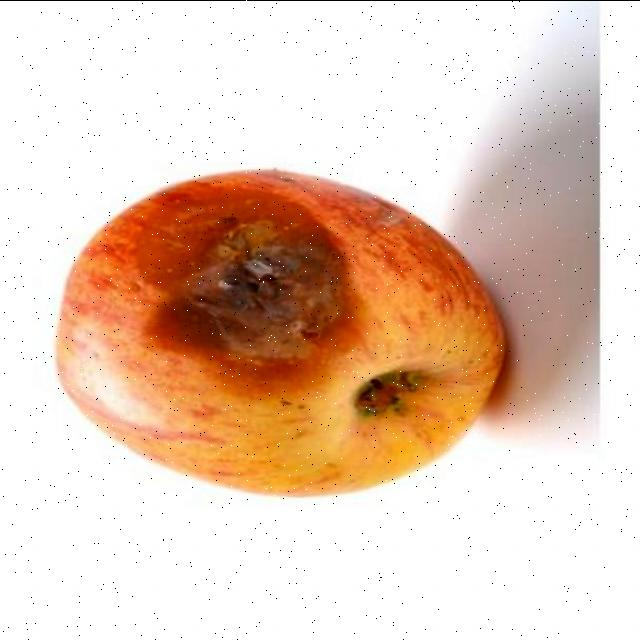ROT: (46, 152, 542, 516)
